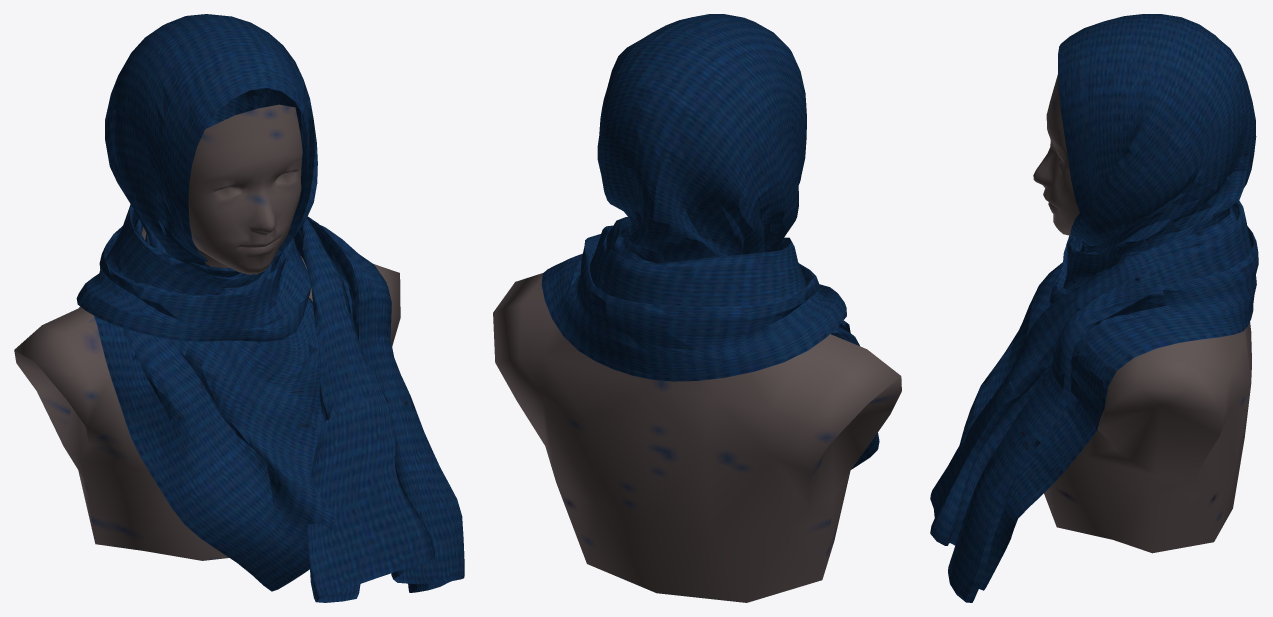
Rendered from hijab-sketchfab.glb.
3 renders of one model, left to right at view 1: azimuth 30°, elevation 25°; view 2: azimuth 150°, elevation 25°; view 3: azimuth 270°, elevation 25°, orthographic. The views are drawn at different scales.
Visible parts, largest first — view 1: Object_2; view 2: Object_2; view 3: Object_2.
Boxes of the visible parts, x1,y1,x2,y2 form: Object_2: (14,14,464,602); Object_2: (493,14,901,602); Object_2: (930,14,1258,602).
Size of the model in its own units: 4.35 by 6.07 by 3.51.
Materials: 1 (1 with a texture image).
